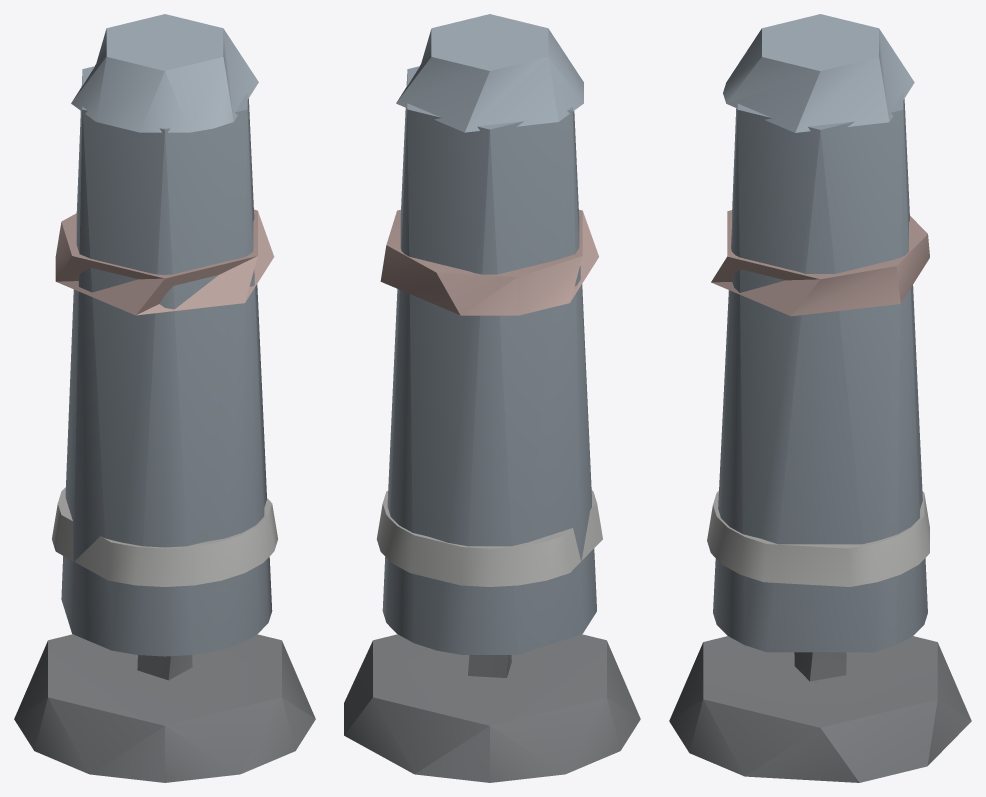
The model's file is dummy.lod2.glb.
The picture shows the model from 3 angles, left to right: view 1: azimuth 30°, elevation 25°; view 2: azimuth 150°, elevation 25°; view 3: azimuth 270°, elevation 25°; orthographic projection.
Size of the model in its own units: 0.7471 by 1.88 by 0.76.
